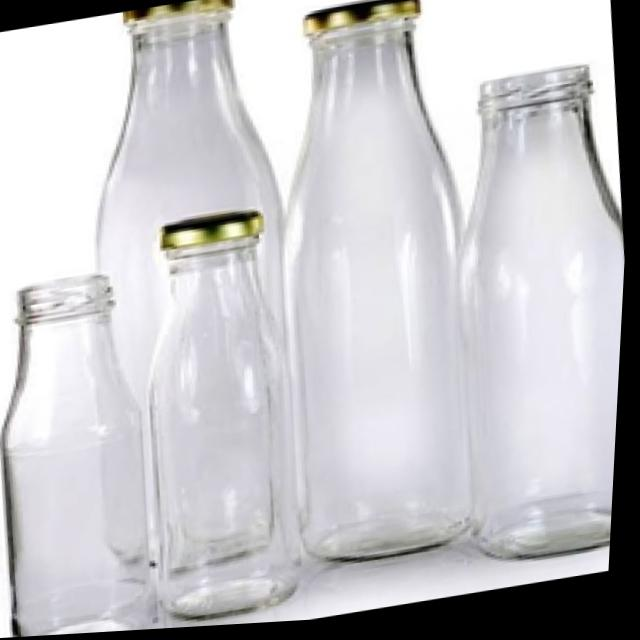glass_beverage_bottles: (244, 0, 503, 577), (428, 66, 636, 574), (128, 202, 325, 627), (0, 267, 176, 640)
